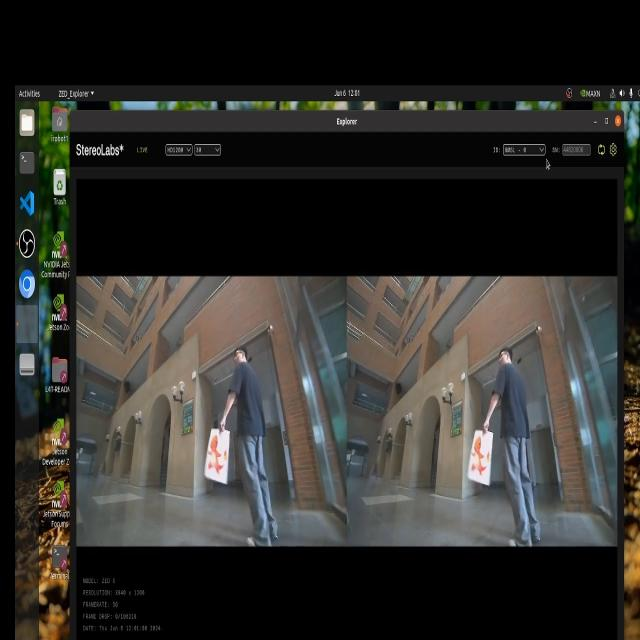red: (475, 440, 491, 486), (208, 433, 224, 475)
